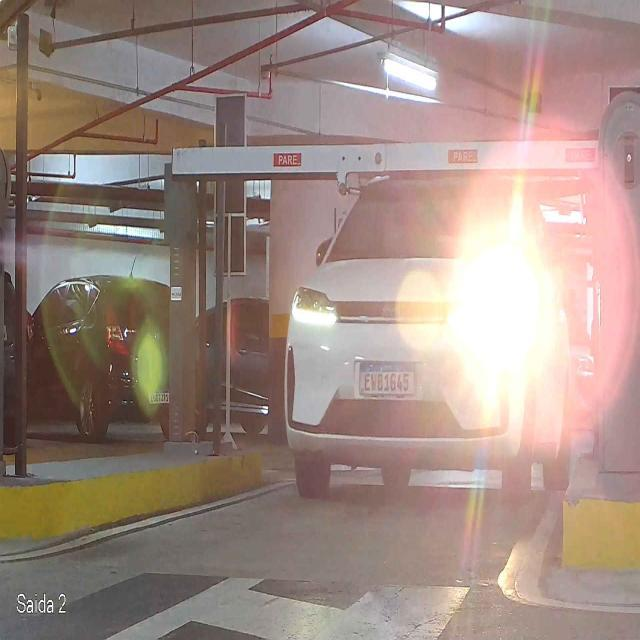mercosul_plate: (357, 360, 419, 398)
